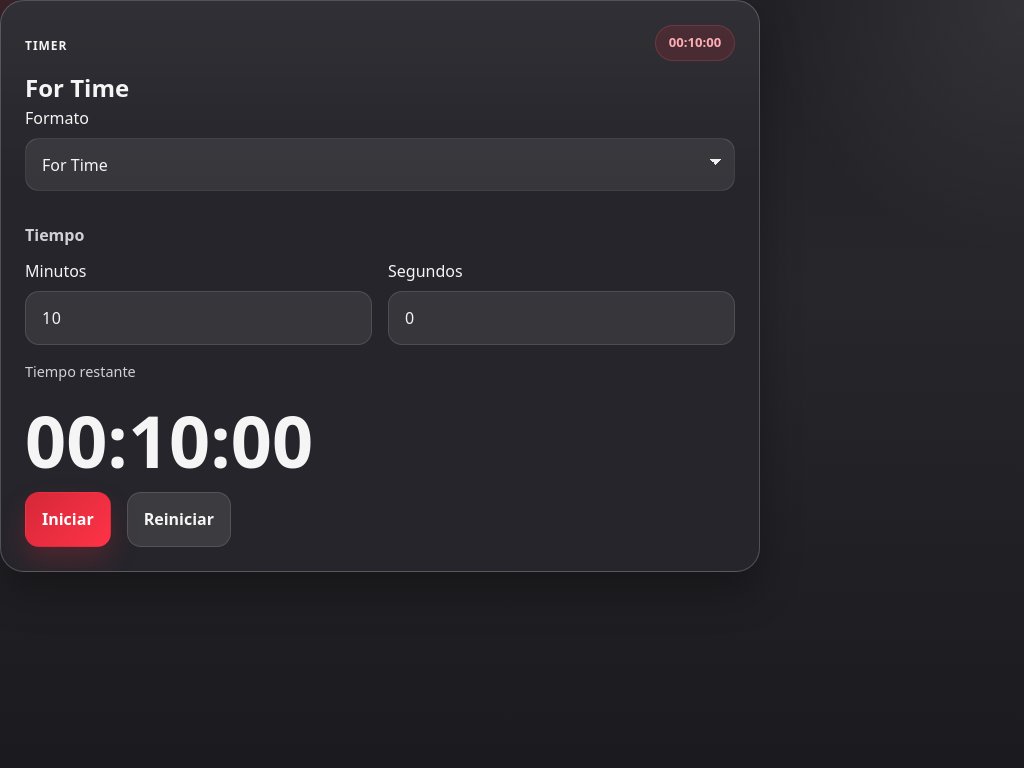
Test: Timer › shows a finish screen when the countdown ends
The image size is (1024, 768).
Replace the text in the number field with id "timer-duration-minutes" with "0". click: (198, 318)
box: [25, 291, 372, 345]
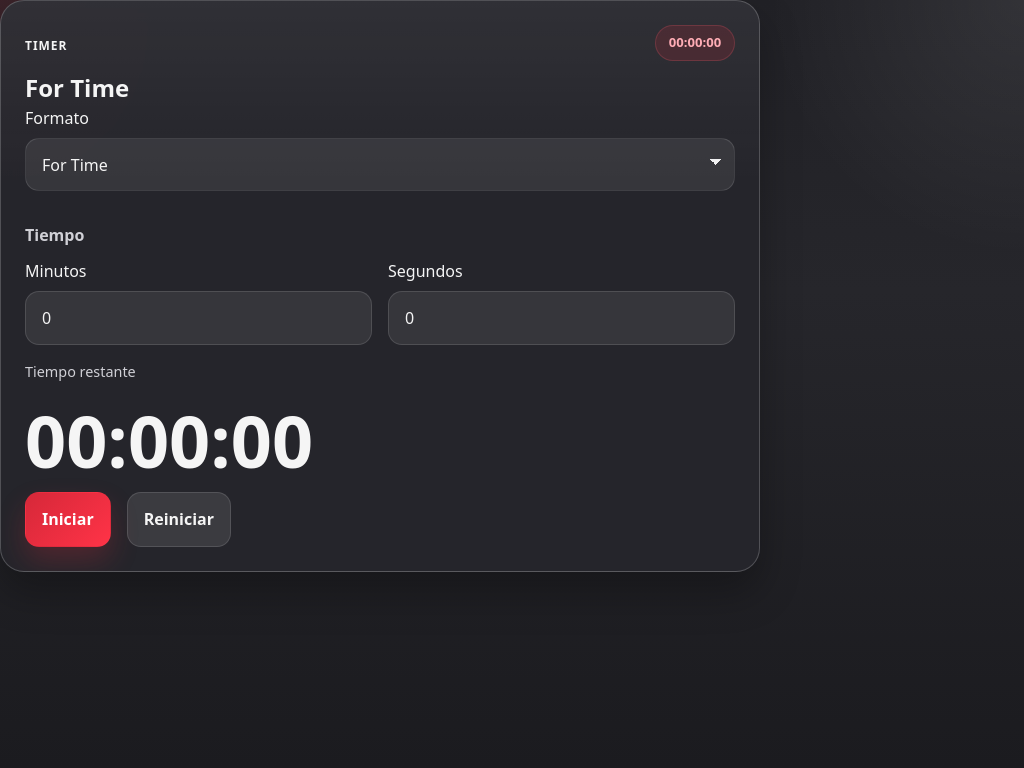
Replace the text in the number field with id "timer-duration-seconds" with "1". click: (562, 318)
box: [388, 291, 735, 345]
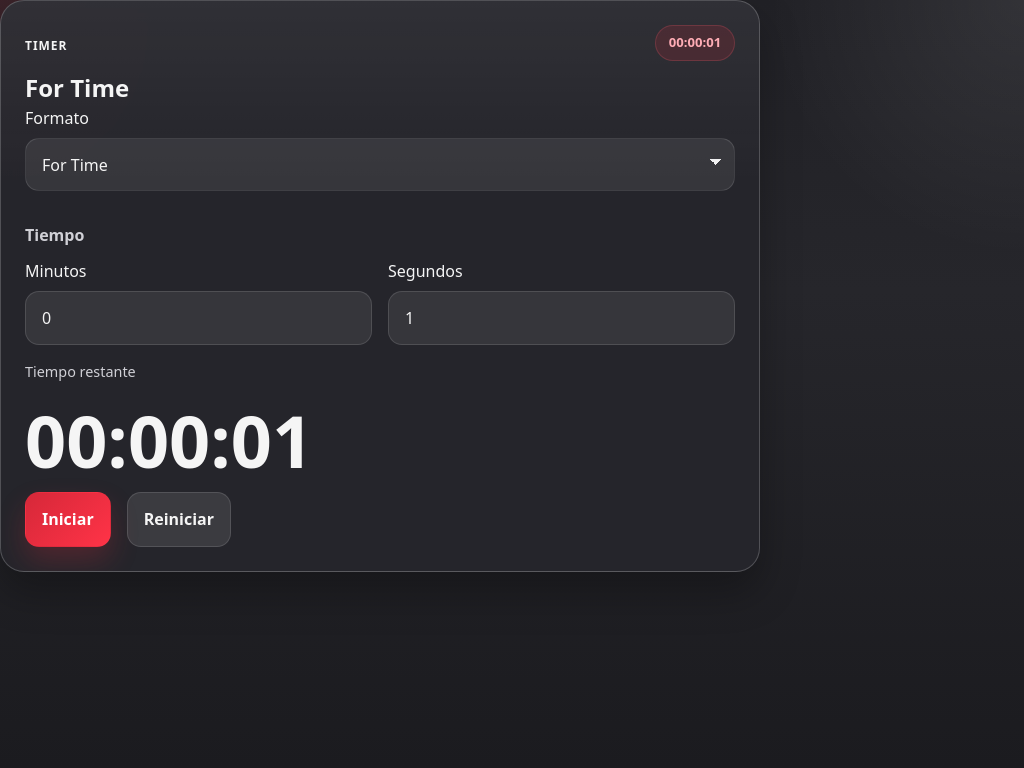
Click the button "Iniciar". click: (68, 519)
box: [25, 492, 111, 547]
Wait 1000 ms
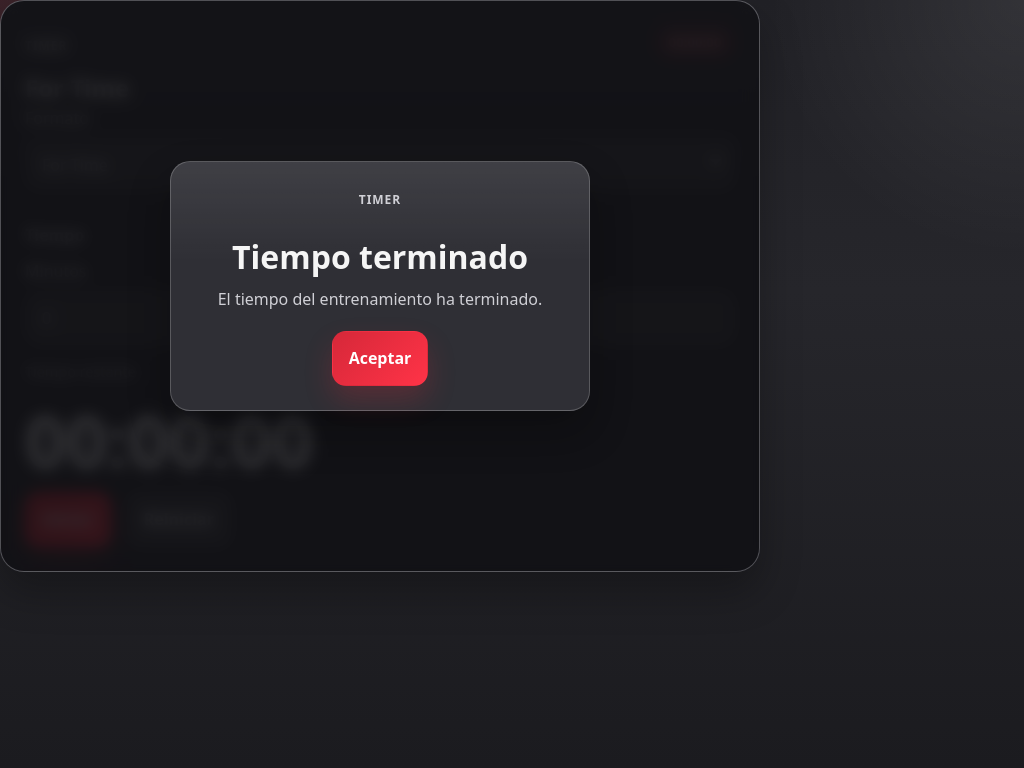
Result: the text "Tiempo terminado" is shown at [232, 236, 528, 278]
Result: the message "Timer Tiempo terminado El tiempo del entrenamiento ha terminado. Aceptar" is shown at [1, 1, 759, 570]
